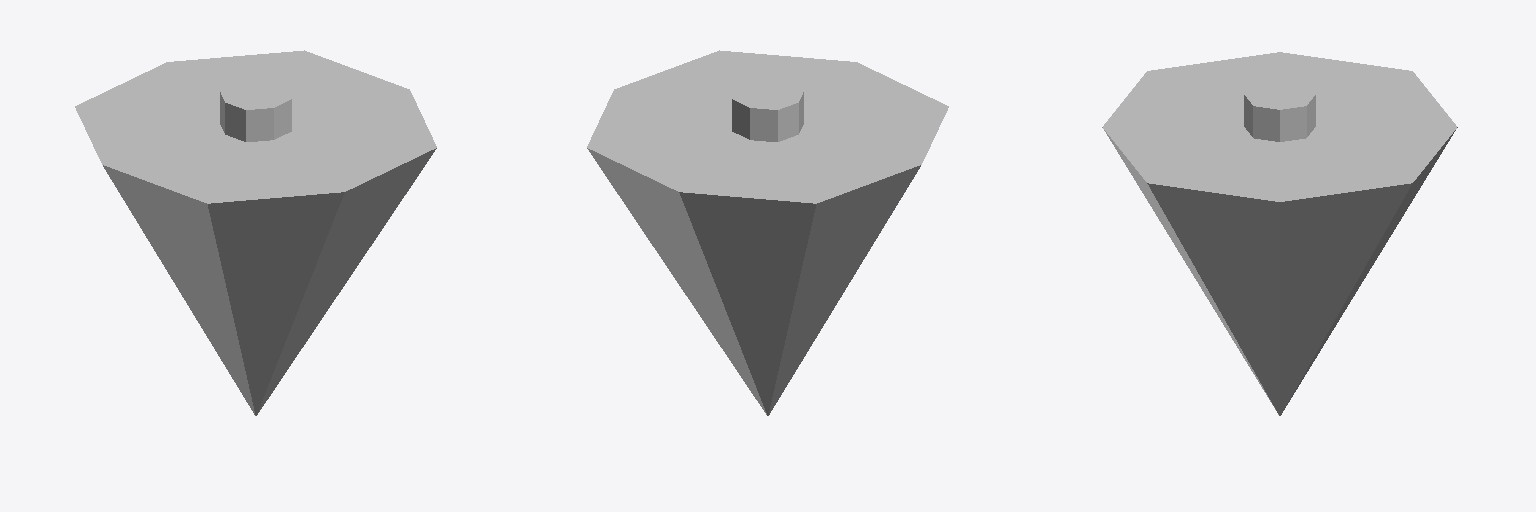
Rendered from burner_drill_head.obj.
The picture shows the model from 3 angles: view 1: azimuth 30°, elevation 25°; view 2: azimuth 150°, elevation 25°; view 3: azimuth 270°, elevation 25°; orthographic projection.
Visible parts, largest first — view 1: Cube_Cube.002; view 2: Cube_Cube.002; view 3: Cube_Cube.002.
Part boxes in pixels (bbox=[...]): Cube_Cube.002: bbox=[75, 50, 436, 415]; Cube_Cube.002: bbox=[587, 50, 948, 415]; Cube_Cube.002: bbox=[1102, 52, 1457, 415].
Bounding box in the file's own units: 1 × 1 × 1.